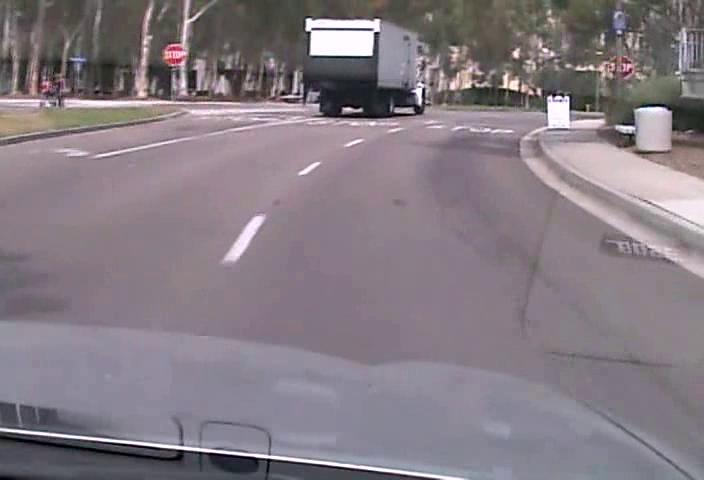stop: (163, 42, 186, 66)
